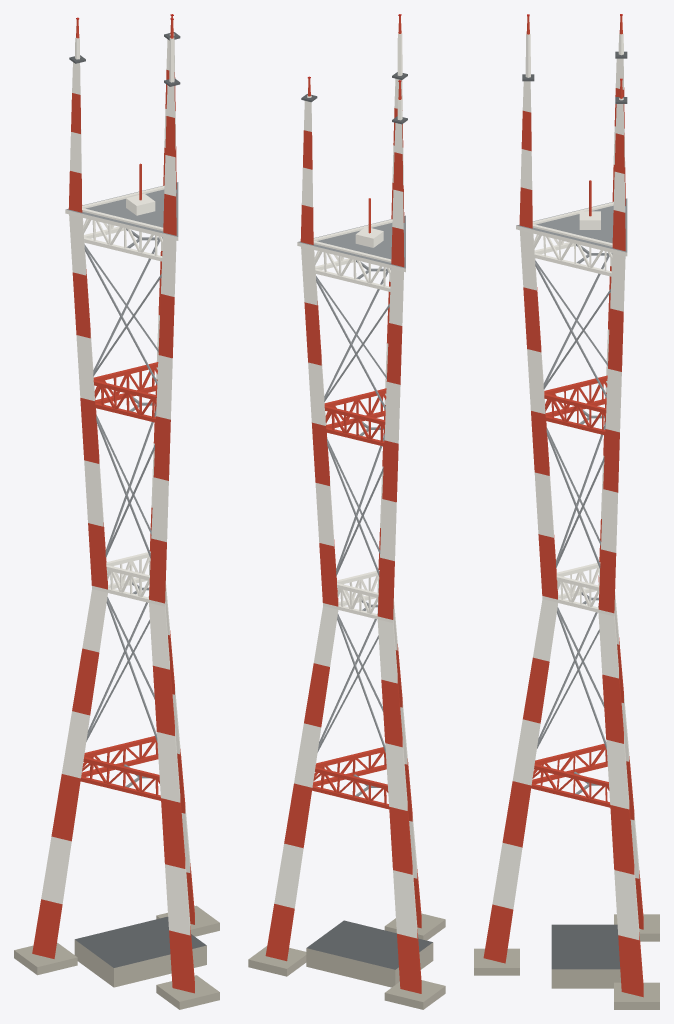
The model's file is sutro_tower.glb.
3 views of the same model, side by side, from view 1: azimuth 30°, elevation 25°; view 2: azimuth 150°, elevation 25°; view 3: azimuth 270°, elevation 25° (orthographic). The views are drawn at different scales.
Visible parts, largest first — view 1: sutro_tower; view 2: sutro_tower; view 3: sutro_tower.
Part boxes in pixels (left/top/right/bottom): sutro_tower: left=14, top=14, right=219, bottom=1009; sutro_tower: left=248, top=14, right=445, bottom=1009; sutro_tower: left=474, top=14, right=659, bottom=1009.
Bounding box in the file's own units: 58.9 × 298 × 52.75.
1 material, 1 textured.
